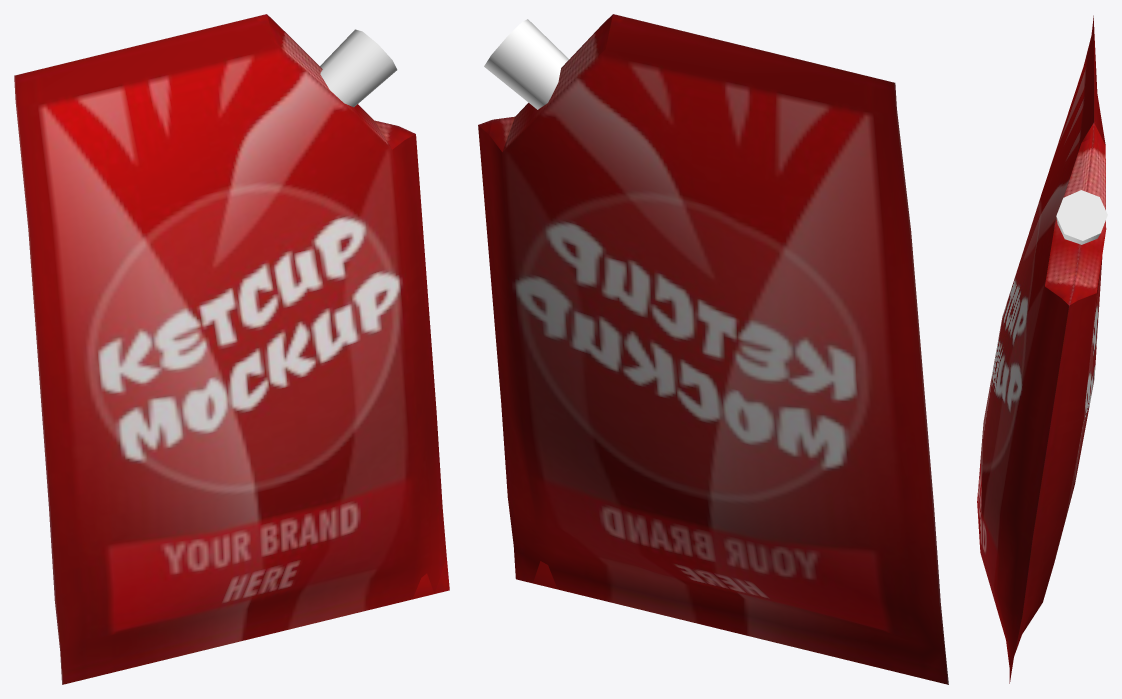
Rendered from Ketchup.fbx.
3 views of the same model, side by side, from view 1: azimuth 30°, elevation 25°; view 2: azimuth 150°, elevation 25°; view 3: azimuth 270°, elevation 25° (orthographic). The views are drawn at different scales.
Visible parts, largest first — view 1: Ketchup; view 2: Ketchup; view 3: Ketchup.
Part boxes in pixels (x1,y1,x2,y2): Ketchup: (14,14,449,684); Ketchup: (478,14,948,684); Ketchup: (977,15,1107,683).
Size of the model in its own units: 26.23 by 37.12 by 8.72.
